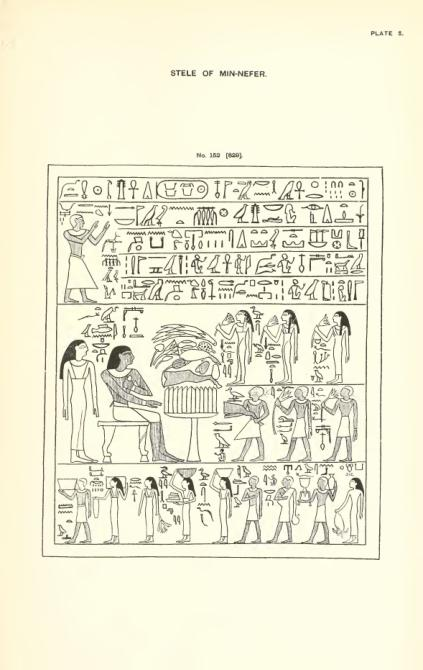circle: (153, 176, 210, 203)
